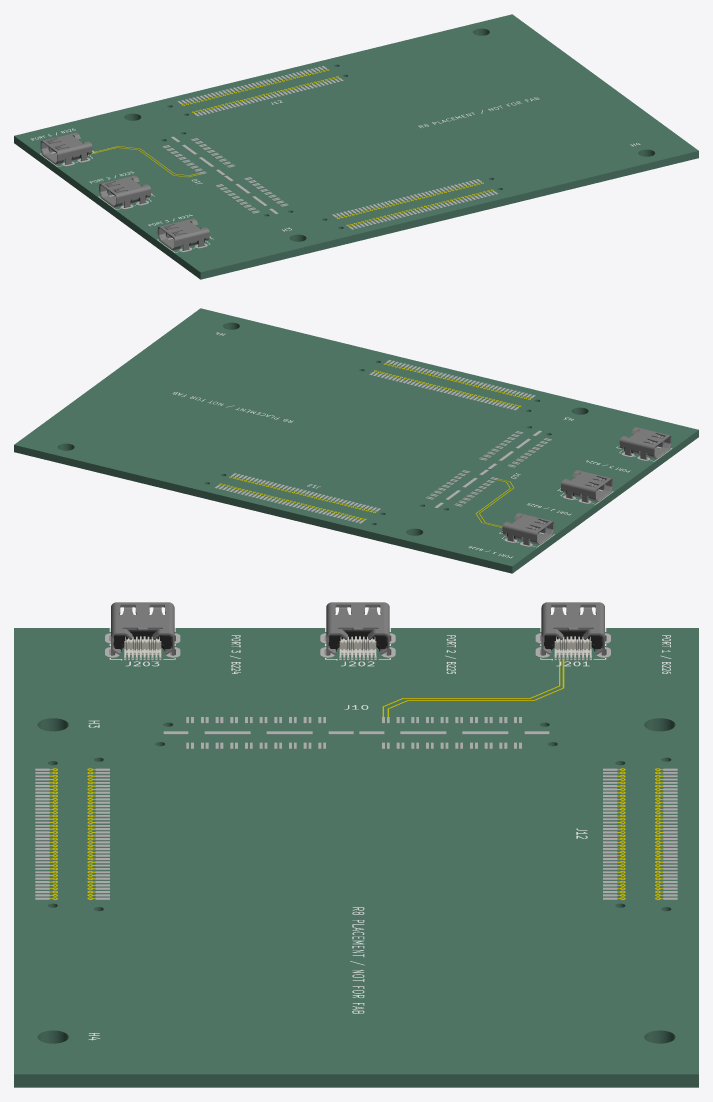
Rendered from r8-interposer-partial.glb.
The picture shows the model from 3 angles, top to bottom: view 1: azimuth 30°, elevation 25°; view 2: azimuth 150°, elevation 25°; view 3: azimuth 270°, elevation 25°; orthographic projection. The views are drawn at different scales.
Visible parts, largest first — view 1: =>[0:1:1:9], =>[0:1:1:3] (×3), =>[0:1:1:5], =>[0:1:1:4], =>[0:1:1:7]; view 2: =>[0:1:1:9], =>[0:1:1:3] (×3), =>[0:1:1:5], =>[0:1:1:4], =>[0:1:1:7]; view 3: =>[0:1:1:9], =>[0:1:1:5], =>[0:1:1:3] (×3), =>[0:1:1:4], =>[0:1:1:7].
Part boxes in pixels (left/top/right/bottom): =>[0:1:1:9]: left=14, top=14, right=698, bottom=279; =>[0:1:1:3] (×3): left=40, top=132, right=209, bottom=250; =>[0:1:1:5]: left=50, top=66, right=497, bottom=252; =>[0:1:1:4]: left=90, top=69, right=493, bottom=226; =>[0:1:1:7]: left=31, top=97, right=640, bottom=252; =>[0:1:1:9]: left=14, top=308, right=698, bottom=573; =>[0:1:1:3] (×3): left=502, top=427, right=671, bottom=545; =>[0:1:1:5]: left=215, top=360, right=661, bottom=546; =>[0:1:1:4]: left=219, top=363, right=530, bottom=527; =>[0:1:1:7]: left=172, top=332, right=671, bottom=558; =>[0:1:1:9]: left=14, top=628, right=698, bottom=1087; =>[0:1:1:5]: left=35, top=633, right=677, bottom=899; =>[0:1:1:3] (×3): left=111, top=602, right=604, bottom=658; =>[0:1:1:4]: left=49, top=660, right=663, bottom=900; =>[0:1:1:7]: left=88, top=627, right=671, bottom=1040.
Size of the model in its own units: 0.1079 by 0.00457 by 0.07.
